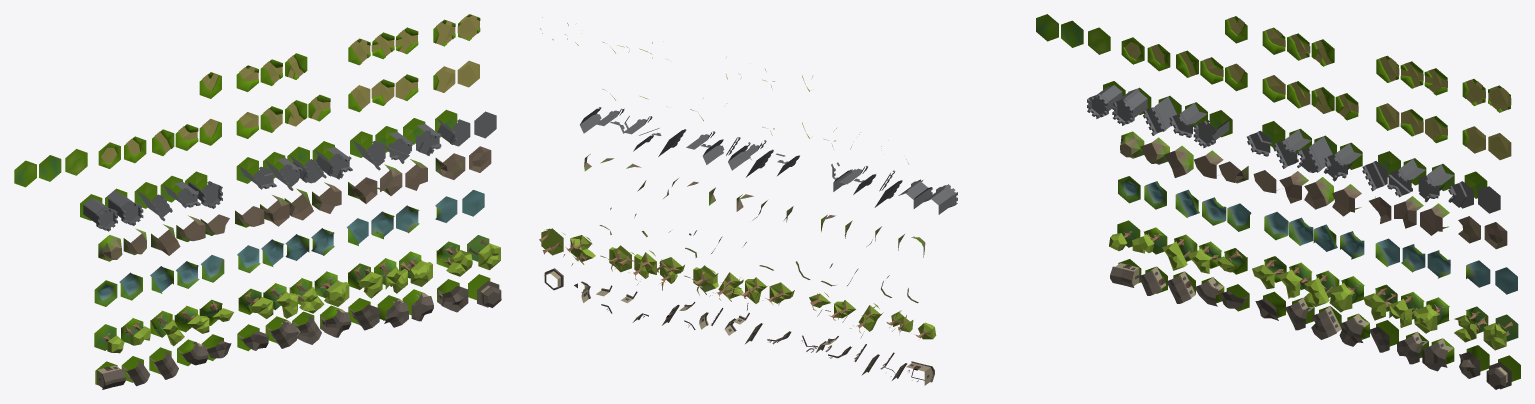
Rendered from Hex.glb.
3 views of the same model, side by side, from view 1: azimuth 30°, elevation 25°; view 2: azimuth 150°, elevation 25°; view 3: azimuth 330°, elevation 25° (orthographic).
Parts seen in each view (by area): view 1: Wall_T4, Wall_Q3, Wall_F, Wall_N, Tree_F, Tree_T4, Wall_Q1, Wall_E, House_H, Wall_Q2, Wall_T1, Wall_P2 (+82 smaller); view 2: Tree_T4, Wall_N, Tree_F, Wall_T4, Tree_H, Tree_Q3, Tree_Q2, Tree_Q1, Wall_E, Tree_T3, Tree_T2, Wall_T2; view 3: Wall_E, Wall_P3, Wall_T4, Wall_Q2, Wall_T3, Wall_Q3, Wall_P1, Tree_H, Wall_F, Tree_Q3, Wall_Q1, Tree_T4 (+82 smaller).
Part boxes in pixels (x1,y1,x2,y2): Wall_T4: (312,141,352,179); Wall_Q3: (403,118,441,155); Wall_F: (435,109,470,146); Wall_N: (80,194,117,231); Tree_F: (436,241,472,276); Tree_T4: (314,271,349,306); Wall_Q1: (350,131,385,170); Wall_E: (105,188,143,225); House_H: (468,274,501,307); Wall_Q2: (375,126,413,163); Wall_T1: (236,157,276,189); Wall_P2: (160,176,200,208); Tree_T4: (684,265,718,295); Wall_N: (923,184,957,214); Tree_F: (563,235,595,265); Wall_T4: (686,131,724,164); Tree_H: (539,228,565,255); Tree_Q3: (600,245,634,272); Tree_Q2: (625,250,659,284); Tree_Q1: (654,257,684,290); Wall_E: (898,179,932,208); Tree_T3: (709,272,743,301); Tree_T2: (736,277,767,310); Wall_T2: (736,140,773,177); Wall_E: (1112,87,1151,125); Wall_P3: (1193,110,1232,148); Wall_T4: (1324,142,1362,181); Wall_Q2: (1387,158,1426,197); Wall_T3: (1297,135,1336,172); Wall_Q3: (1418,164,1454,202); Wall_P1: (1143,96,1181,135); Tree_H: (1483,314,1518,350); Wall_F: (1448,171,1487,208); Tree_Q3: (1414,297,1449,333); Wall_Q1: (1362,151,1400,191); Tree_T4: (1329,276,1364,312).
Bounding box in the file's own units: 36.83 × 21.79 × 2.63.
